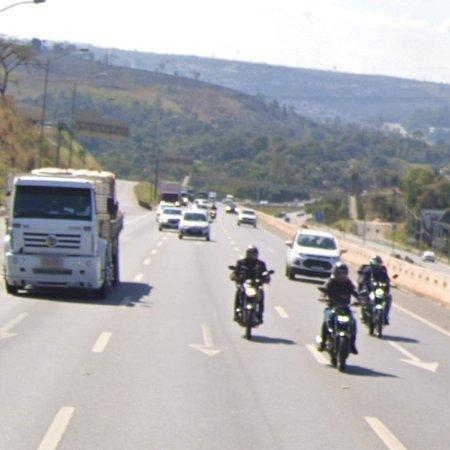motorcycles: (328, 306, 354, 372), (236, 280, 264, 341), (364, 283, 388, 338)
